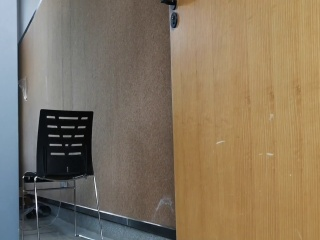room: (3, 1, 320, 238)
